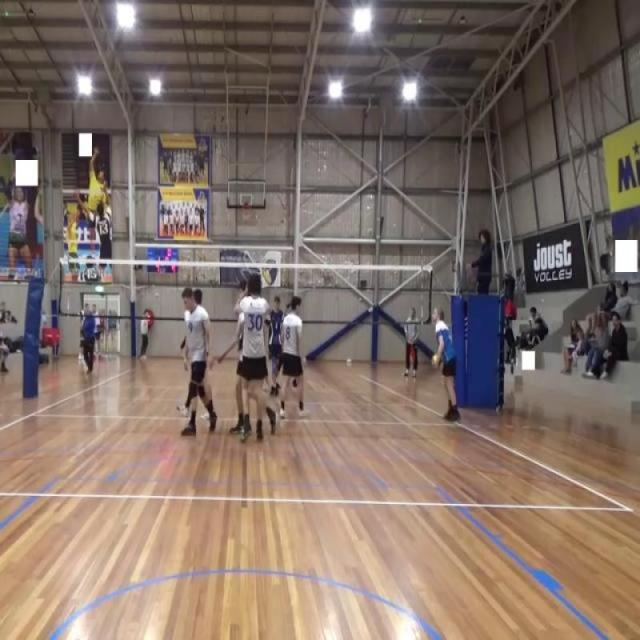volleyball: (432, 354, 441, 368)
